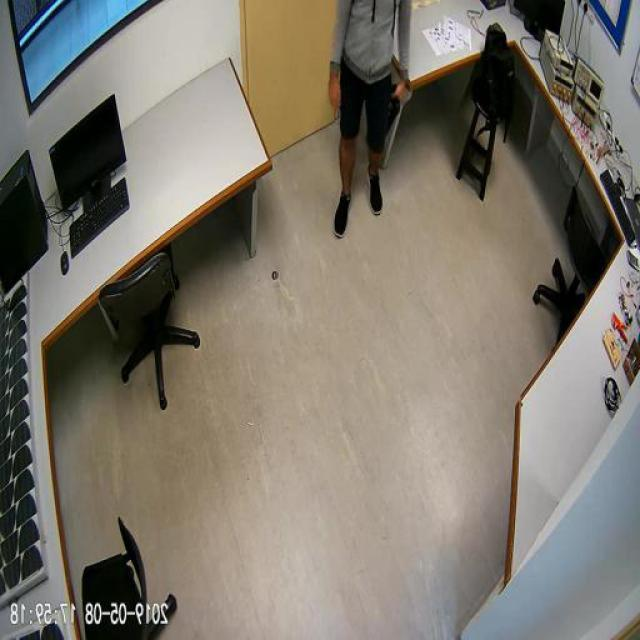weapon: (379, 82, 401, 144)
